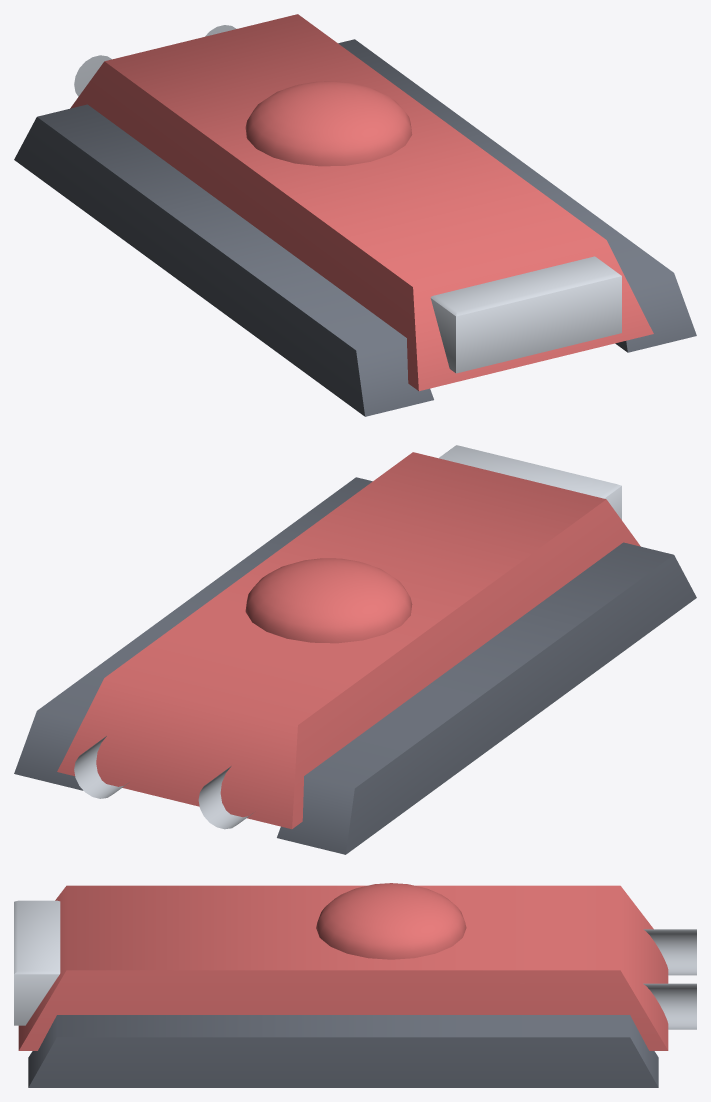
File: sapc.glb
The picture shows the model from 3 angles, top to bottom: view 1: azimuth 30°, elevation 25°; view 2: azimuth 150°, elevation 25°; view 3: azimuth 270°, elevation 25°; orthographic projection. The views are drawn at different scales.
Visible parts, largest first — view 1: Hull; view 2: Hull; view 3: Hull.
Part boxes in pixels (<box>): Hull: <box>14,14,696,416</box>; Hull: <box>14,445,696,854</box>; Hull: <box>14,883,696,1087</box>.
Size of the model in its own units: 1.73 by 0.66 by 3.43.
